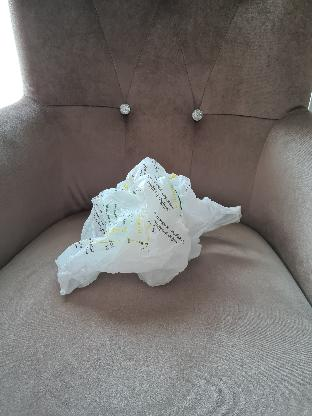Plastic Bag: (57, 159, 242, 299)
